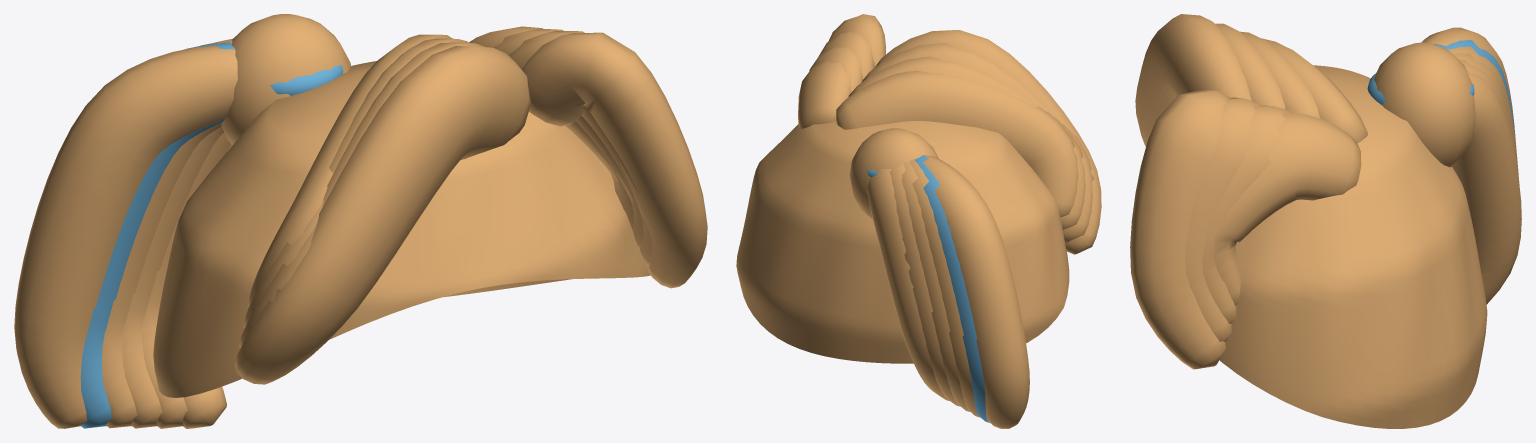
File: studio_ponytail_short.glb
3 views of the same model, side by side, from view 1: azimuth 30°, elevation 25°; view 2: azimuth 150°, elevation 25°; view 3: azimuth 270°, elevation 25° (orthographic). The views are drawn at different scales.
Visible parts, largest first — view 1: ponytail; view 2: ponytail; view 3: ponytail.
Part boxes in pixels (box(x1,y1,x2,y2)): ponytail: box(14, 14, 707, 428); ponytail: box(736, 14, 1101, 428); ponytail: box(1130, 14, 1521, 428).
Size of the model in its own units: 0.5571 by 0.449 by 0.4179.
